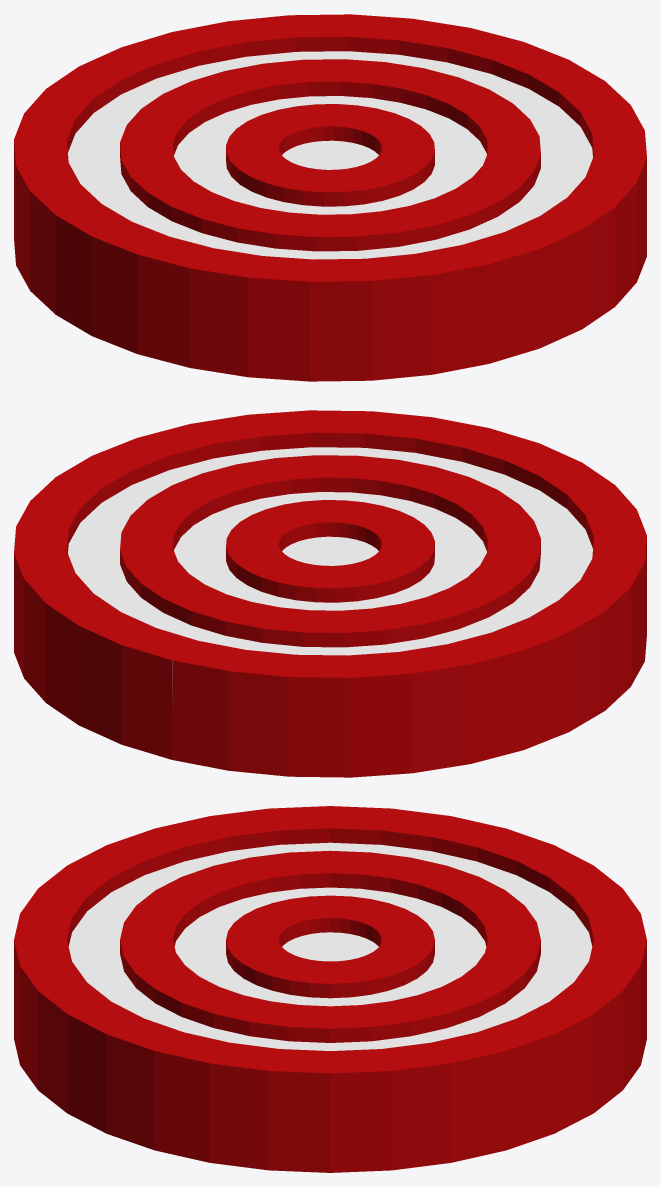
File: RedTarget.fbx
The picture shows the model from 3 angles, top to bottom: view 1: azimuth 30°, elevation 25°; view 2: azimuth 150°, elevation 25°; view 3: azimuth 270°, elevation 25°; orthographic projection.
Visible parts, largest first — view 1: RedTarget; view 2: RedTarget; view 3: RedTarget.
Boxes of the visible parts, <box> form: RedTarget: <box>14,14,646,381</box>; RedTarget: <box>14,410,646,777</box>; RedTarget: <box>14,806,646,1172</box>.
Size of the model in its own units: 200 by 34.68 by 200.
Materials: 1 (1 with a texture image).
